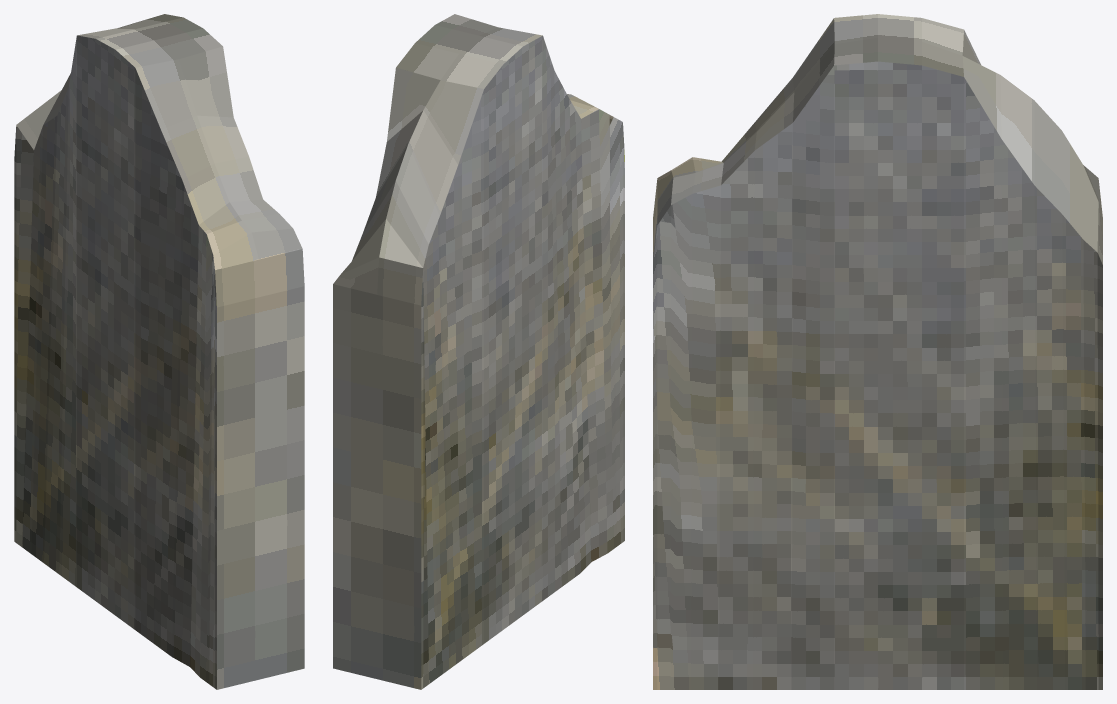
File: GravestoneHellaCracked.fbx
The picture shows the model from 3 angles, left to right: view 1: azimuth 30°, elevation 25°; view 2: azimuth 150°, elevation 25°; view 3: azimuth 270°, elevation 25°; orthographic projection. The views are drawn at different scales.
Visible parts, largest first — view 1: Circle.002; view 2: Circle.002; view 3: Circle.002.
Boxes of the visible parts, x1=… form: Circle.002: x1=14, y1=14, x2=304, y2=689; Circle.002: x1=333, y1=14, x2=624, y2=689; Circle.002: x1=653, y1=14, x2=1102, y2=689.
Bounding box in the file's own units: 50 × 308 × 200.
